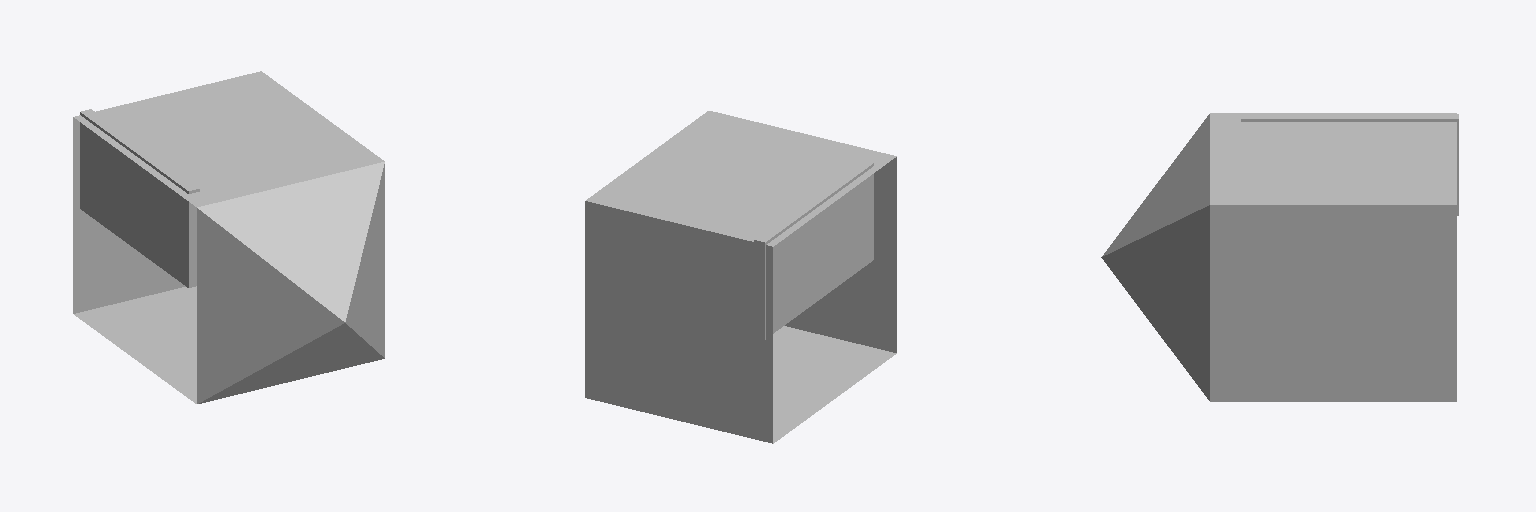
The model's file is house1.obj.
3 views of the same model, side by side, from view 1: azimuth 30°, elevation 25°; view 2: azimuth 150°, elevation 25°; view 3: azimuth 270°, elevation 25° (orthographic).
Parts seen in each view (by area): view 1: cube2_default; view 2: cube2_default; view 3: cube2_default.
Part boxes in pixels (x1,y1,x2,y2): cube2_default: (73, 71, 384, 403); cube2_default: (585, 111, 896, 443); cube2_default: (1101, 113, 1458, 401).
Size of the model in its own units: 2 by 2.03 by 3.29.